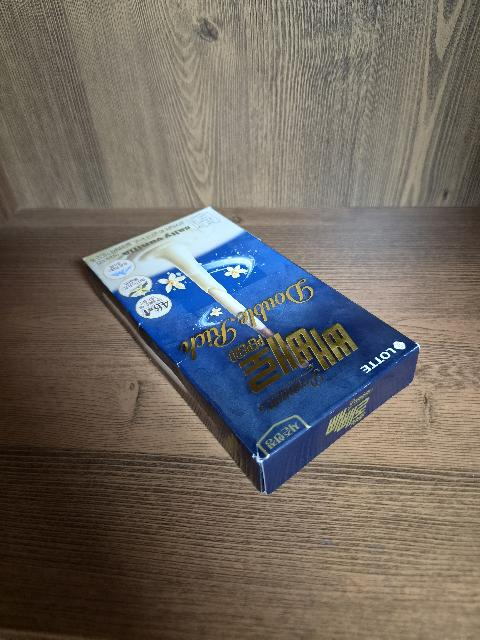pepero: (82, 205, 420, 494)
